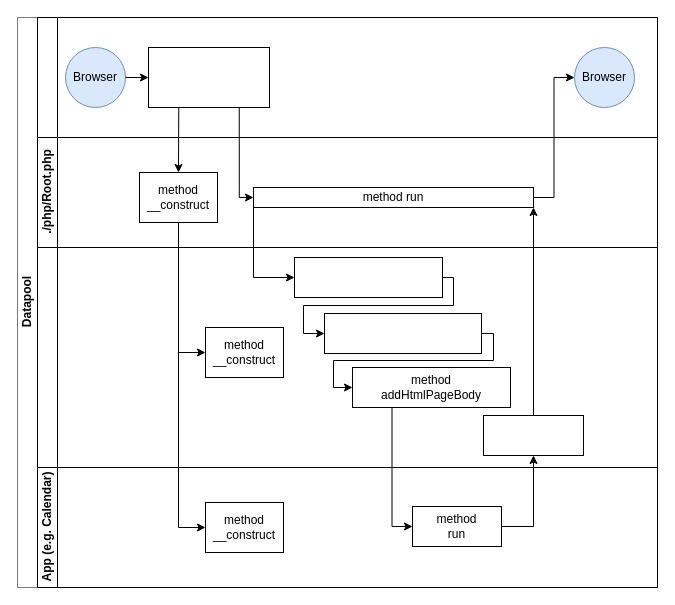
The diagram is 675 pixels wide and 605 high, and some of its shapes have lost their labels. The shapes that lost their labels are listed below. From the top down, each one's box as (x1, y1, x2, y2) in pixels, then its label:
(148, 46, 270, 108): Creates instance of Root
(36, 16, 658, 138): ./www/index.php
(294, 256, 442, 298): method addHtmlPageBackbone
(324, 312, 482, 354): method addHtmlPageHeader
(36, 246, 658, 468): ../php/Foundation/Backbone.php
(482, 414, 584, 456): method finalizePage
